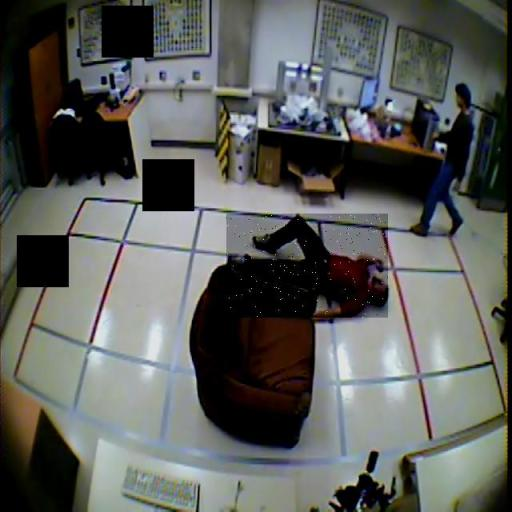Fall: (226, 214, 388, 318)
